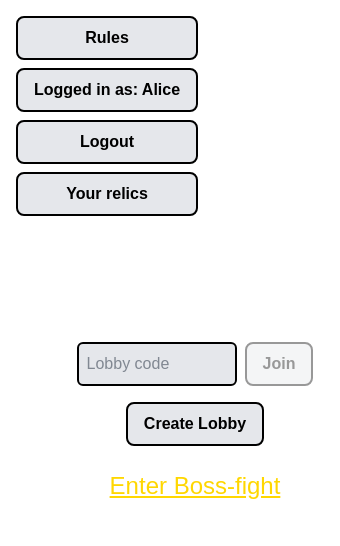
Test: HomeOverlay › logs out, clearing localStorage and reverting to the logged-out UI
Check: the text "Logged in as: Alice" is shown, box top-left (16, 68), bottom-right (198, 112)
Click the button "Logout": (107, 142) top-left (16, 120), bottom-right (198, 164)
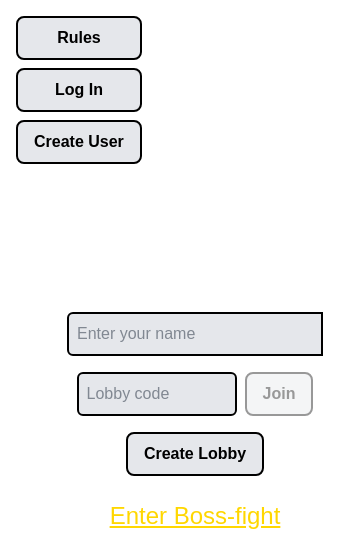
Check: the link "Log In" is shown, box top-left (16, 68), bottom-right (142, 112)
